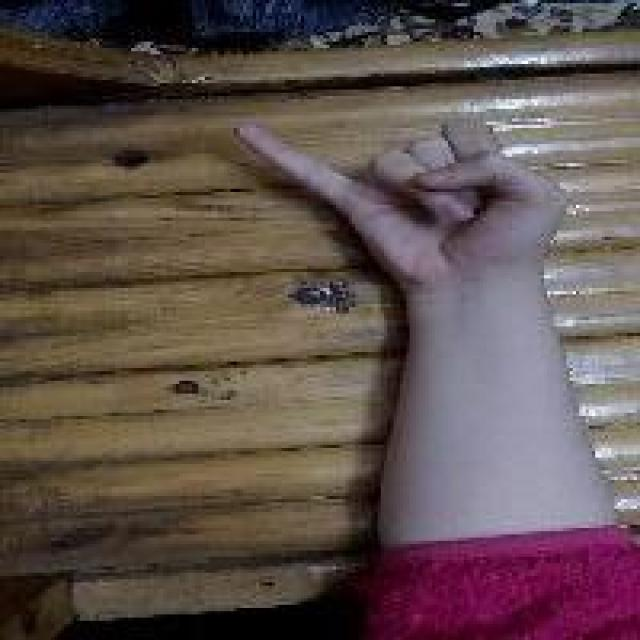J: (230, 102, 576, 278)
